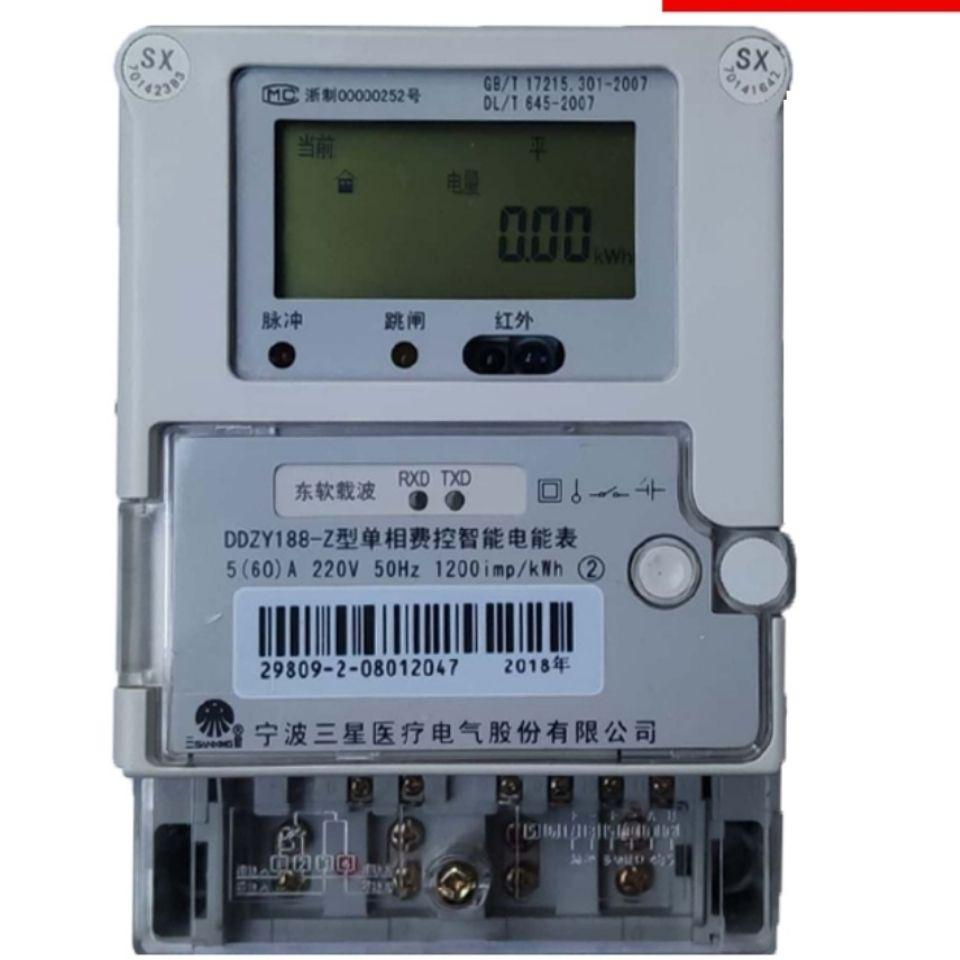digital: (116, 24, 783, 772)
